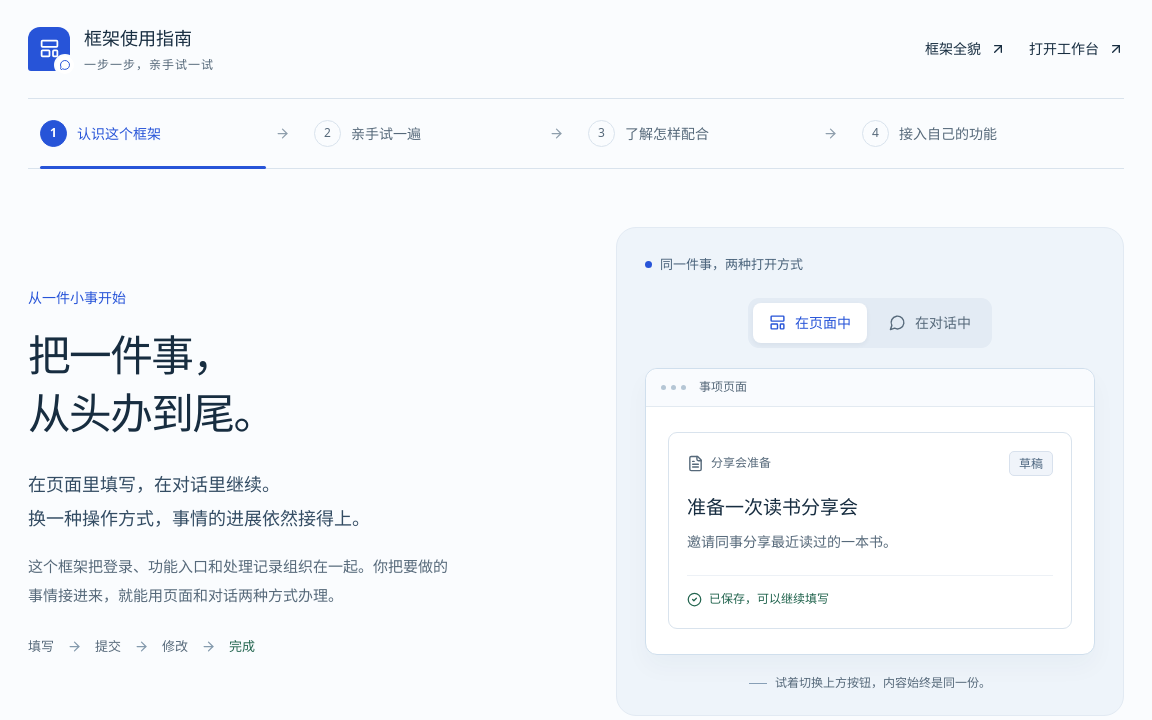
Test: interactive framework guide › recovers from broken storage and remains usable when saving is blocked
The image size is (1152, 720).
Click the button "2 亲手试一遍". click: {"x": 386, "y": 133}
box: [302,99,576,168]
(page scrolled)
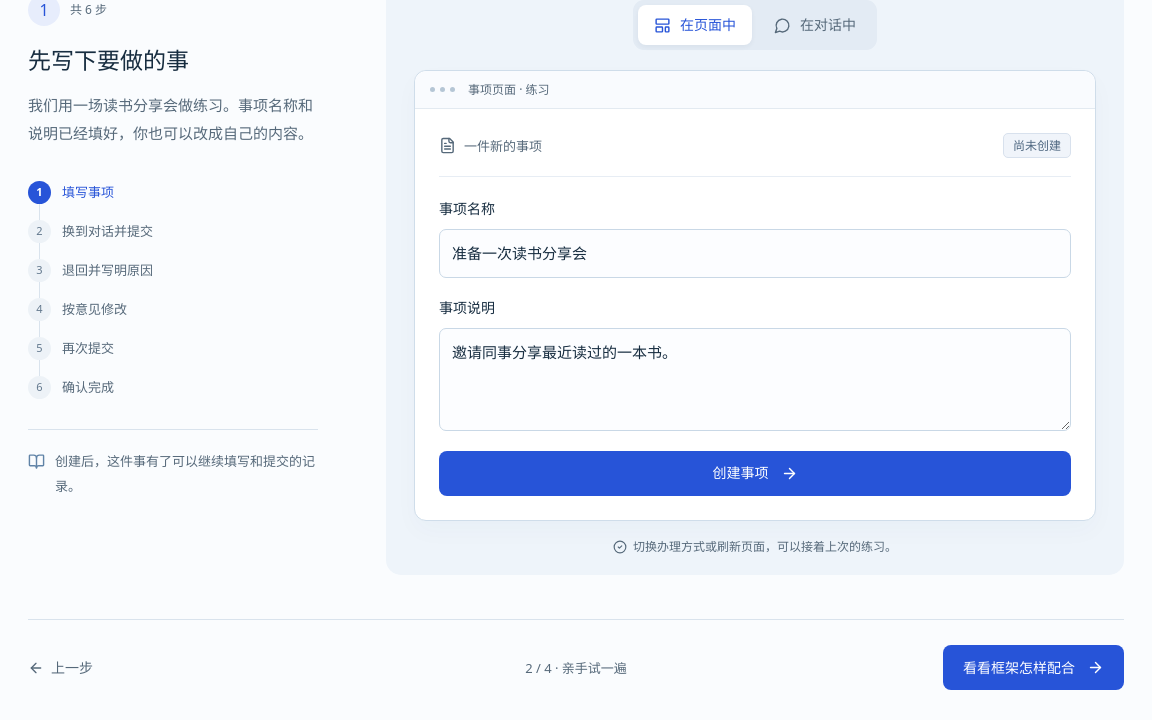
Check: the button "创建事项" is shown
Click the button "创建事项". click: {"x": 755, "y": 474}
box: [439,451,1071,496]
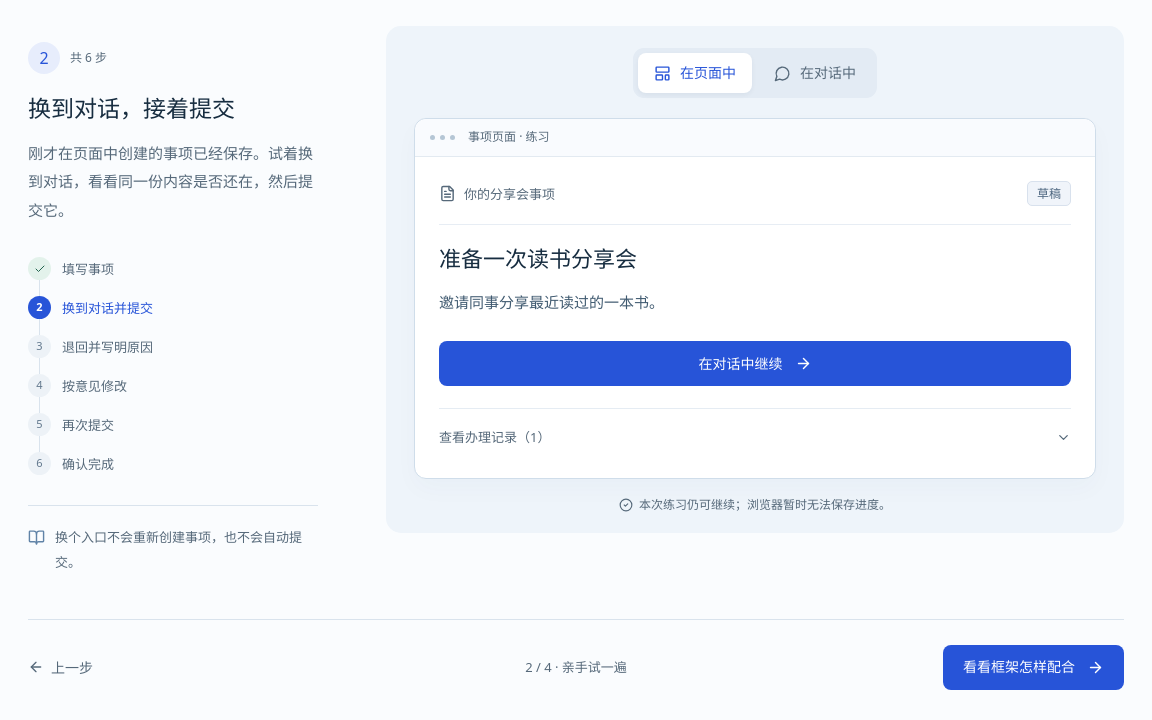
Check: the button "在对话中继续" is shown, box [439,342,1071,386]
